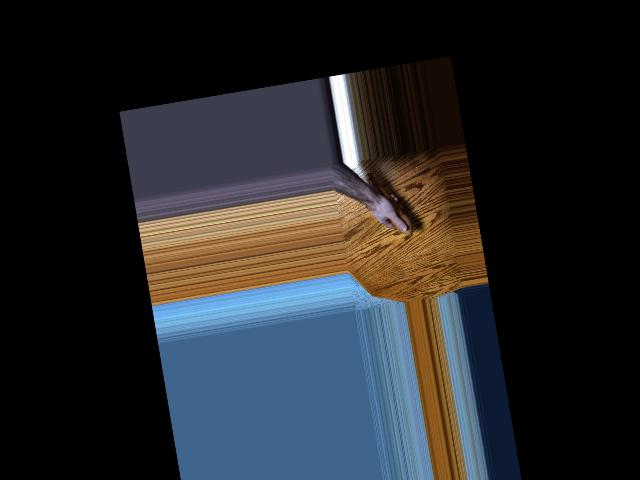sweet_potato: (363, 165, 412, 238)
